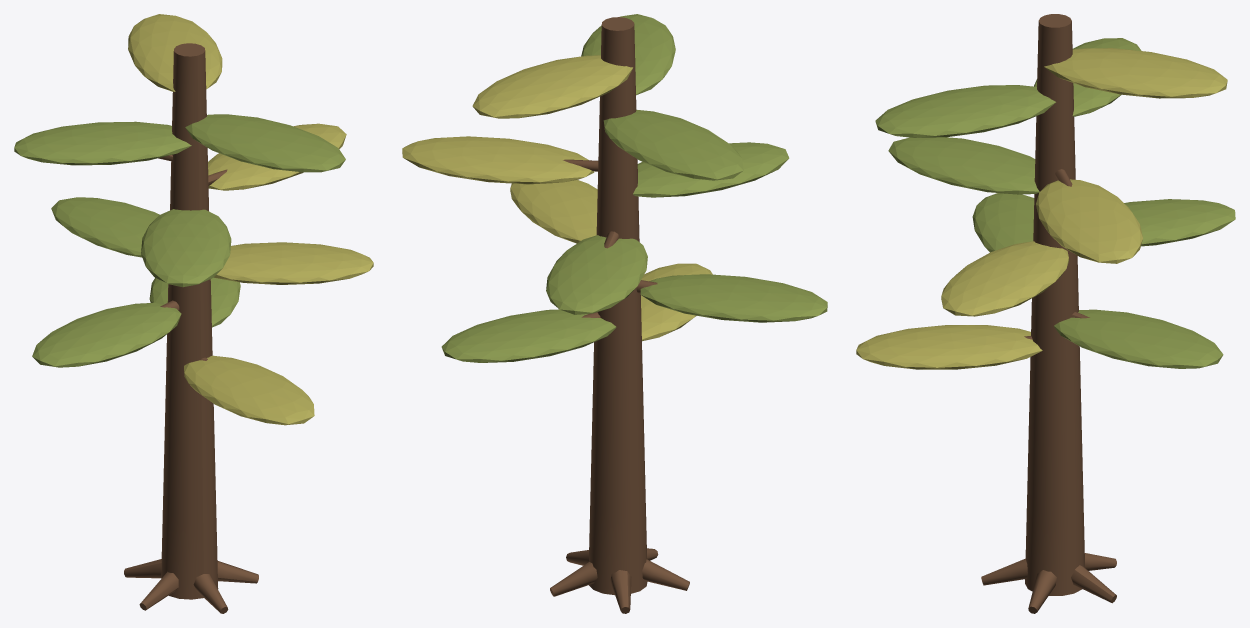
Rendered from fan-cycad.glb.
The picture shows the model from 3 angles, left to right: view 1: azimuth 30°, elevation 25°; view 2: azimuth 150°, elevation 25°; view 3: azimuth 270°, elevation 25°; orthographic projection. The views are drawn at different scales.
Parts seen in each view (by area): view 1: trunk, foliage-2, foliage-8, foliage-7, foliage-0, foliage-5, foliage-3, foliage-9, foliage-4, foliage-6, foliage-1, root-flare-4 (+3 smaller); view 2: trunk, foliage-6, foliage-2, foliage-9, foliage-1, foliage-7, foliage-4, foliage-3, foliage-5, foliage-8, foliage-0, root-flare-2 (+2 smaller); view 3: trunk, foliage-8, foliage-0, foliage-9, foliage-6, foliage-1, foliage-3, foliage-5, foliage-4, foliage-2, foliage-7, root-flare-2 (+2 smaller).
Boxes of the visible parts, x1,y1,x2,y2 form: trunk: (161, 43, 218, 599); foliage-2: (32, 302, 181, 367); foliage-8: (185, 114, 345, 172); foliage-7: (14, 121, 191, 165); foliage-0: (184, 355, 314, 425); foliage-5: (141, 209, 231, 287); foliage-3: (214, 242, 373, 284); foliage-9: (128, 14, 222, 91); foliage-4: (51, 197, 159, 257); foliage-6: (208, 123, 346, 190); foliage-1: (149, 277, 240, 327); root-flare-4: (139, 571, 178, 610); trunk: (588, 17, 647, 595); foliage-6: (402, 136, 594, 184); foliage-2: (640, 274, 827, 322); foliage-9: (472, 55, 632, 118); foliage-1: (441, 309, 616, 362); foliage-7: (603, 109, 743, 180); foliage-4: (546, 235, 647, 314); foliage-3: (510, 180, 597, 243); foliage-5: (633, 142, 789, 197); foliage-8: (581, 14, 675, 95); foliage-0: (641, 263, 712, 341); root-flare-2: (550, 562, 597, 596); trunk: (1025, 14, 1084, 595); foliage-8: (875, 85, 1055, 137); foliage-0: (856, 325, 1042, 369); foliage-9: (1044, 48, 1227, 98); foliage-6: (1036, 179, 1143, 263); foliage-1: (1054, 309, 1223, 368); foliage-3: (941, 241, 1068, 316); foliage-5: (888, 137, 1039, 194); foliage-4: (1124, 199, 1235, 246); foliage-2: (972, 193, 1034, 252); foliage-7: (1034, 38, 1141, 116); root-flare-2: (1071, 565, 1116, 603).
Bounding box in the file's own units: 3.05 × 4.44 × 2.71.
